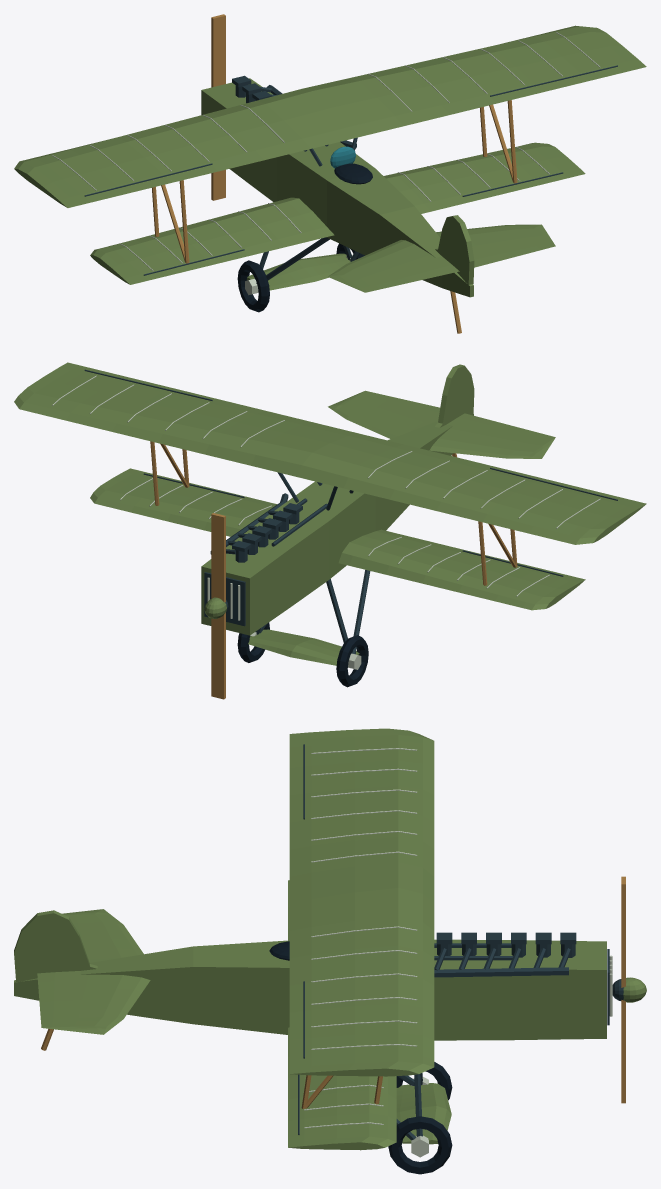
Rendered from archive-fokker-dvii.glb.
3 views of the same model, one above another, from view 1: azimuth 30°, elevation 25°; view 2: azimuth 150°, elevation 25°; view 3: azimuth 270°, elevation 25° (orthographic). The views are drawn at different scales.
Visible parts, largest first — view 1: archive-fokker-dvii-wing_1_-1.002-geometry, archive-fokker-dvii-wing_1_1.002-geometry, archive-fokker-dvii-fuselage.002-geometry, archive-fokker-dvii-wing_0_-1.002-geometry, archive-fokker-dvii-wing_0_1.002-geometry, archive-fokker-dvii-archive-fokker-dvii-geometry, archive-fokker-dvii-tailplane.004-geometry, archive-fokker-dvii-tailplane.005-geometry, archive-fokker-dvii-axle_airfoil-geometry, archive-fokker-dvii-vertical_tail.002-geometry, archive-fokker-dvii-propeller_00.002-geometry, archive-fokker-dvii-exposed_engine-geometry; view 2: archive-fokker-dvii-wing_1_-1.002-geometry, archive-fokker-dvii-wing_1_1.002-geometry, archive-fokker-dvii-fuselage.002-geometry, archive-fokker-dvii-wing_0_-1.002-geometry, archive-fokker-dvii-wing_0_1.002-geometry, archive-fokker-dvii-archive-fokker-dvii-geometry, archive-fokker-dvii-tailplane.004-geometry, archive-fokker-dvii-tailplane.005-geometry, archive-fokker-dvii-propeller_00.002-geometry, archive-fokker-dvii-exposed_engine-geometry, archive-fokker-dvii-axle_airfoil-geometry, archive-fokker-dvii-vertical_tail.002-geometry; view 3: archive-fokker-dvii-fuselage.002-geometry, archive-fokker-dvii-wing_1_1.002-geometry, archive-fokker-dvii-wing_1_-1.002-geometry, archive-fokker-dvii-wing_0_1.002-geometry, archive-fokker-dvii-archive-fokker-dvii-geometry, archive-fokker-dvii-tailplane.005-geometry, archive-fokker-dvii-exposed_engine-geometry, archive-fokker-dvii-vertical_tail.002-geometry, archive-fokker-dvii-tailplane.004-geometry, archive-fokker-dvii-axle_airfoil-geometry, archive-fokker-dvii-propeller_00.002-geometry.
Boxes of the visible parts, bbox=[...] form: archive-fokker-dvii-wing_1_-1.002-geometry: bbox=[14, 89, 356, 207]; archive-fokker-dvii-wing_1_1.002-geometry: bbox=[302, 25, 646, 137]; archive-fokker-dvii-fuselage.002-geometry: bbox=[201, 78, 473, 297]; archive-fokker-dvii-wing_0_-1.002-geometry: bbox=[90, 197, 334, 284]; archive-fokker-dvii-wing_0_1.002-geometry: bbox=[384, 142, 585, 213]; archive-fokker-dvii-archive-fokker-dvii-geometry: bbox=[152, 100, 517, 333]; archive-fokker-dvii-tailplane.004-geometry: bbox=[328, 240, 459, 292]; archive-fokker-dvii-tailplane.005-geometry: bbox=[436, 224, 555, 267]; archive-fokker-dvii-axle_airfoil-geometry: bbox=[247, 253, 350, 290]; archive-fokker-dvii-vertical_tail.002-geometry: bbox=[435, 215, 474, 284]; archive-fokker-dvii-propeller_00.002-geometry: bbox=[211, 14, 225, 200]; archive-fokker-dvii-exposed_engine-geometry: bbox=[232, 75, 356, 149]; archive-fokker-dvii-wing_1_-1.002-geometry: bbox=[297, 433, 646, 544]; archive-fokker-dvii-wing_1_1.002-geometry: bbox=[14, 362, 356, 476]; archive-fokker-dvii-fuselage.002-geometry: bbox=[201, 414, 473, 635]; archive-fokker-dvii-wing_0_-1.002-geometry: bbox=[338, 529, 585, 610]; archive-fokker-dvii-wing_0_1.002-geometry: bbox=[90, 468, 276, 536]; archive-fokker-dvii-archive-fokker-dvii-geometry: bbox=[150, 441, 517, 687]; archive-fokker-dvii-tailplane.004-geometry: bbox=[429, 413, 555, 458]; archive-fokker-dvii-tailplane.005-geometry: bbox=[328, 390, 440, 438]; archive-fokker-dvii-propeller_00.002-geometry: bbox=[211, 513, 228, 699]; archive-fokker-dvii-exposed_engine-geometry: bbox=[210, 493, 302, 562]; archive-fokker-dvii-axle_airfoil-geometry: bbox=[248, 629, 359, 665]; archive-fokker-dvii-vertical_tail.002-geometry: bbox=[435, 364, 474, 427]; archive-fokker-dvii-fuselage.002-geometry: bbox=[14, 939, 606, 1040]; archive-fokker-dvii-wing_1_1.002-geometry: bbox=[289, 888, 434, 1076]; archive-fokker-dvii-wing_1_-1.002-geometry: bbox=[289, 728, 434, 903]; archive-fokker-dvii-wing_0_1.002-geometry: bbox=[288, 1027, 396, 1150]; archive-fokker-dvii-archive-fokker-dvii-geometry: bbox=[41, 941, 646, 1174]; archive-fokker-dvii-tailplane.005-geometry: bbox=[37, 971, 150, 1034]; archive-fokker-dvii-exposed_engine-geometry: bbox=[434, 932, 576, 977]; archive-fokker-dvii-vertical_tail.002-geometry: bbox=[14, 910, 97, 981]; archive-fokker-dvii-tailplane.004-geometry: bbox=[62, 909, 143, 962]; archive-fokker-dvii-axle_airfoil-geometry: bbox=[396, 1083, 451, 1144]; archive-fokker-dvii-propeller_00.002-geometry: bbox=[612, 876, 625, 1103].
Size of the model in its own units: 7.63 by 2.77 by 6.
